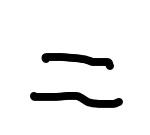eqv: (22, 49, 125, 110)
